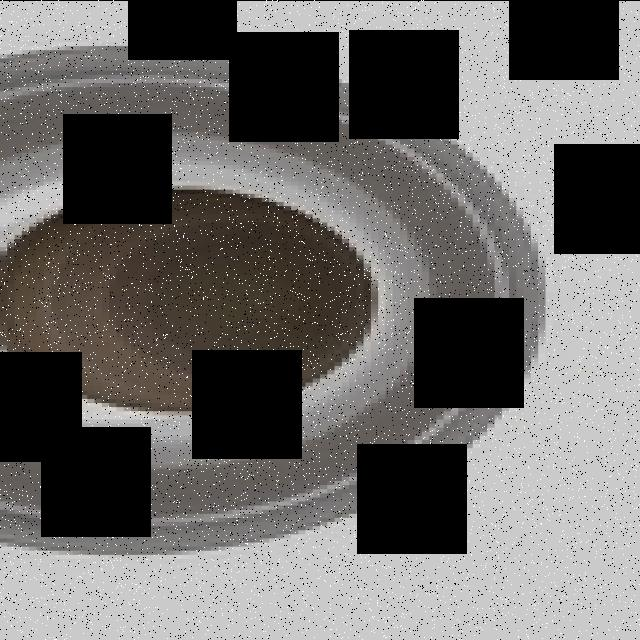Saturn: (0, 41, 552, 554)
